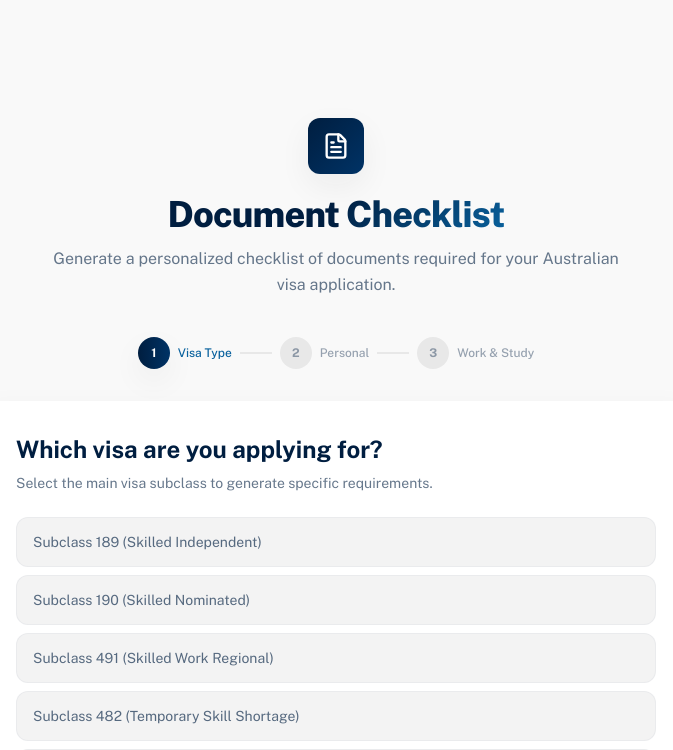
DocumentChecklistPage › enables 'Next' button after visa selection and navigates to step 2
Step 1. Click the button "Subclass 189 (Skilled Independent)" → (147,542), box [16,517,656,567]
(page scrolled)
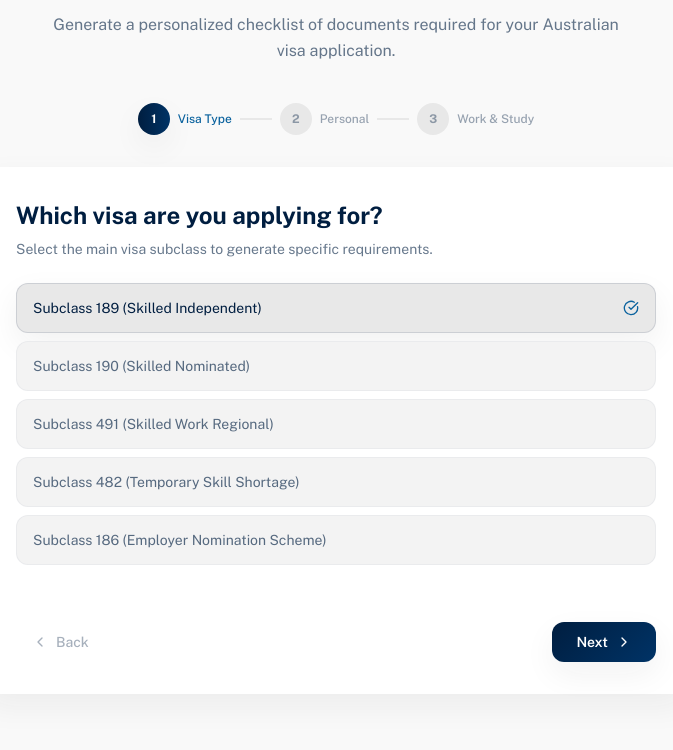
Check: the button "Next" is enabled
Step 2. Click the button "Next" → (604,642), box [552,622,656,662]
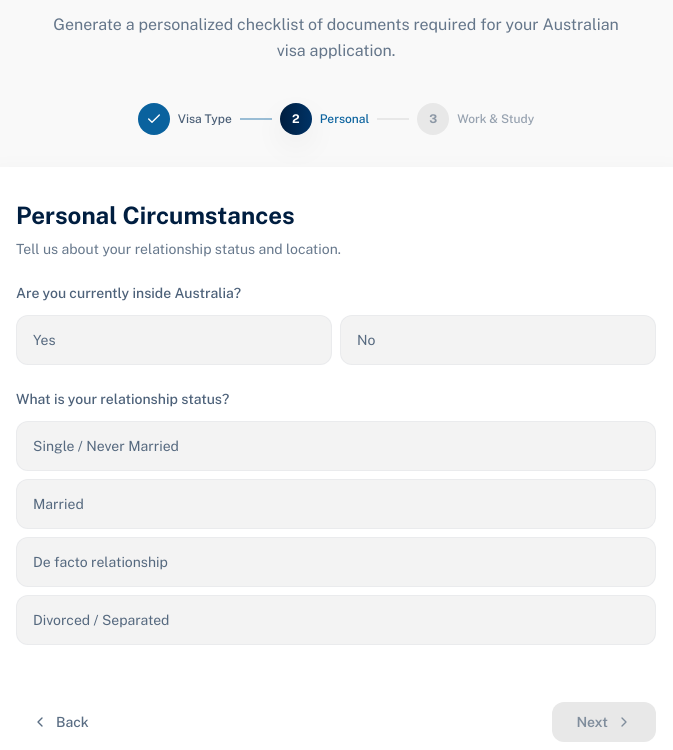
Check: the heading "Personal Circumstances" is shown, box [16,201,295,229]
Check: the heading "Are you currently inside Australia?" is shown, box [16,285,241,301]
